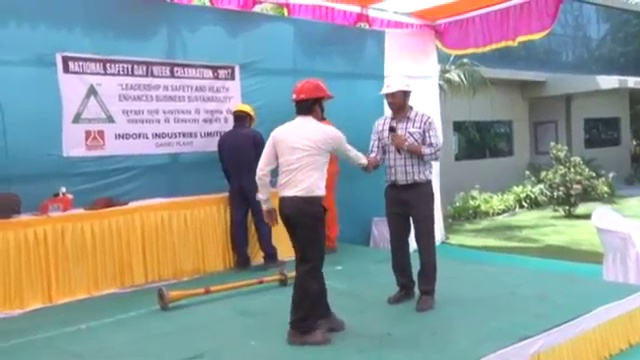helmet: (290, 77, 338, 102), (378, 75, 414, 96), (232, 102, 258, 123)
helmet_on: (290, 76, 338, 125), (378, 73, 414, 119), (229, 99, 259, 130)
person: (254, 76, 368, 347), (368, 73, 445, 313), (218, 99, 286, 270), (318, 104, 344, 255)
